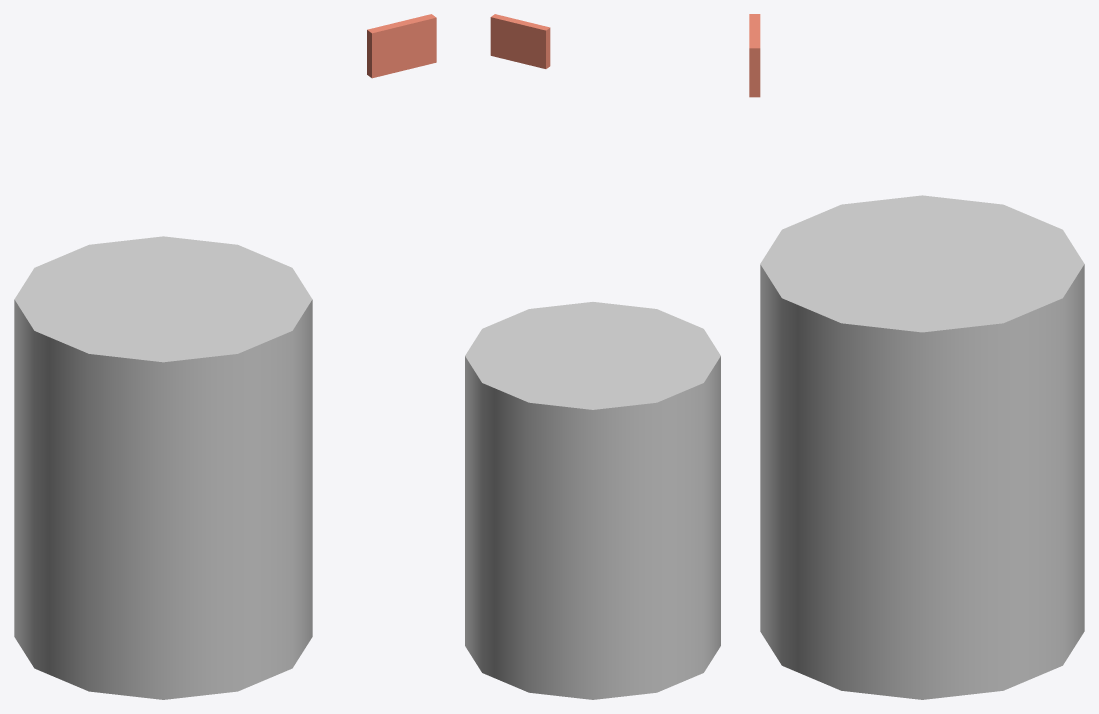
The model's file is coffee_steel_glass.glb.
3 renders of one model, left to right at view 1: azimuth 30°, elevation 25°; view 2: azimuth 150°, elevation 25°; view 3: azimuth 270°, elevation 25°, orthographic. The views are drawn at different scales.
Visible parts, largest first — view 1: coffee_steel_glass; view 2: coffee_steel_glass; view 3: coffee_steel_glass.
Part boxes in pixels (x1=…): coffee_steel_glass: x1=14, y1=14, x2=436, y2=699; coffee_steel_glass: x1=465, y1=14, x2=720, y2=699; coffee_steel_glass: x1=749, y1=14, x2=1084, y2=699.
Size of the model in its own units: 0.15 by 0.28 by 0.124.
